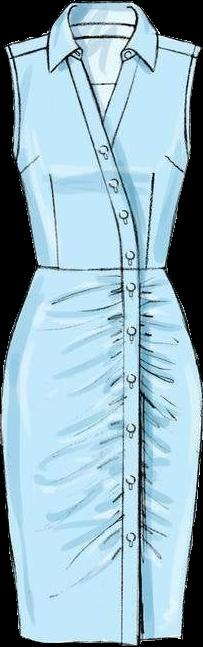Bodice: (4, 2, 200, 271)
Hemline: (17, 632, 187, 646)
Neckline: (65, 2, 140, 123)
Skirt: (2, 265, 201, 644)
Waistline: (36, 261, 167, 274)
